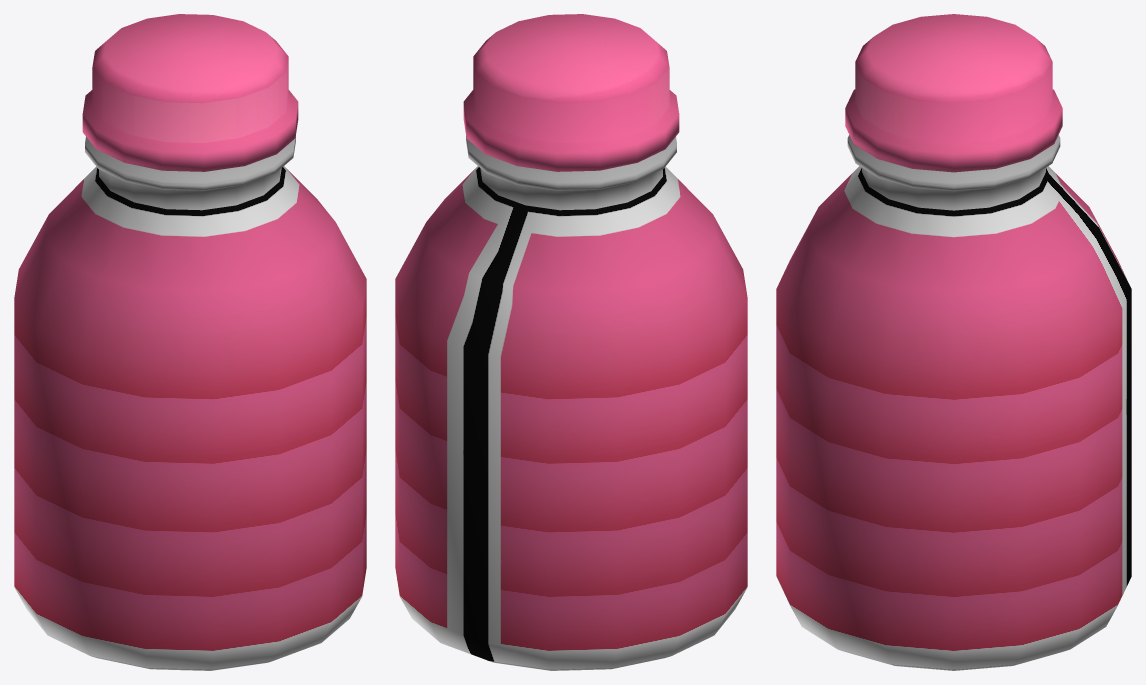
The model's file is Bottle.fbx.
3 renders of one model, left to right at view 1: azimuth 30°, elevation 25°; view 2: azimuth 150°, elevation 25°; view 3: azimuth 270°, elevation 25°, orthographic.
Parts seen in each view (by area): view 1: Cylinder_Low013; view 2: Cylinder_Low013; view 3: Cylinder_Low013.
Boxes of the visible parts, bbox=[...] form: Cylinder_Low013: bbox=[14, 14, 366, 670]; Cylinder_Low013: bbox=[395, 14, 747, 670]; Cylinder_Low013: bbox=[776, 14, 1131, 670].
Size of the model in its own units: 8.45 by 14.73 by 8.45.
